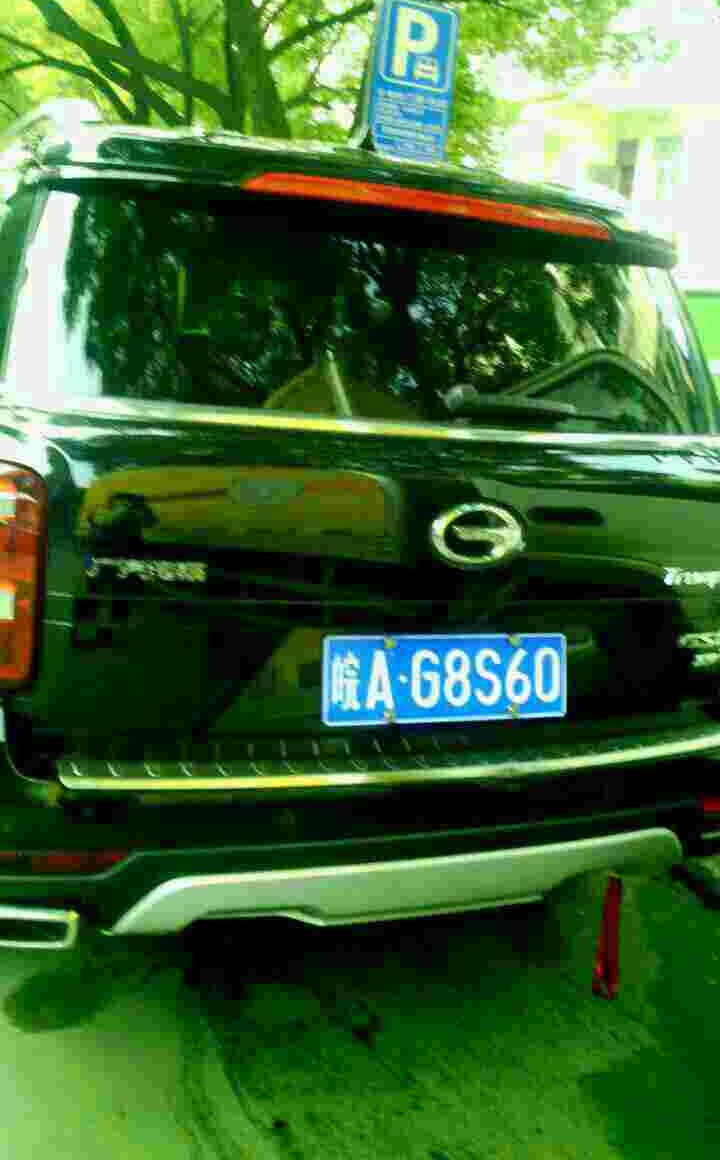car: (325, 625, 564, 730)
